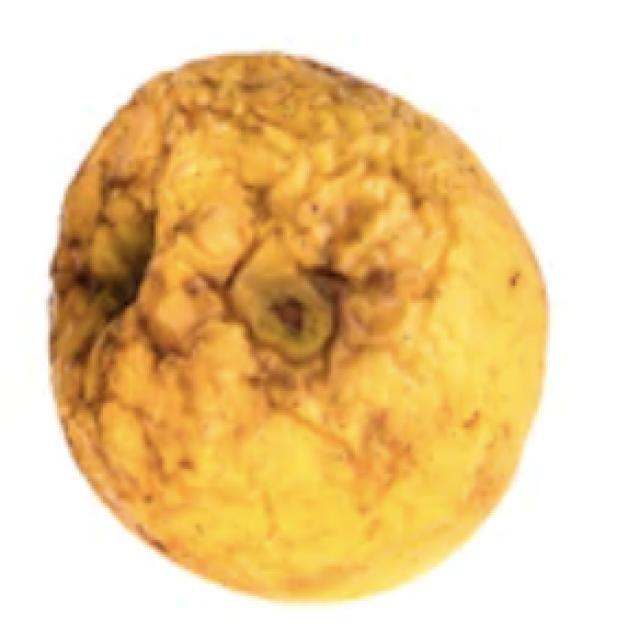Rotten: (45, 45, 555, 597)
